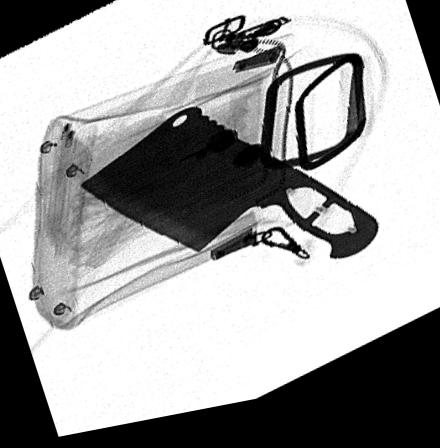Knife: (77, 112, 380, 271)
